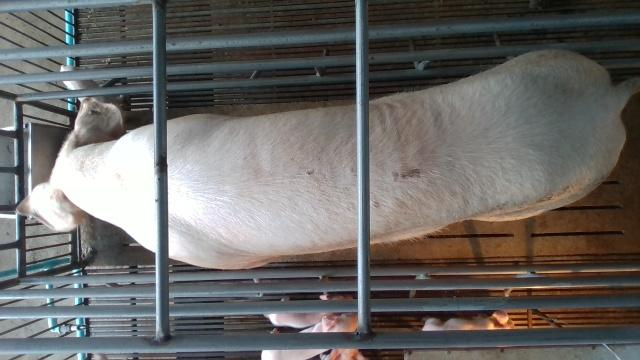piglet: (260, 314, 361, 359), (58, 63, 130, 119), (264, 294, 354, 329), (421, 309, 515, 331)
sow-stand: (16, 47, 640, 270)
